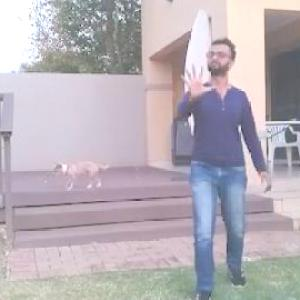follow_hand: (175, 58, 219, 102)
